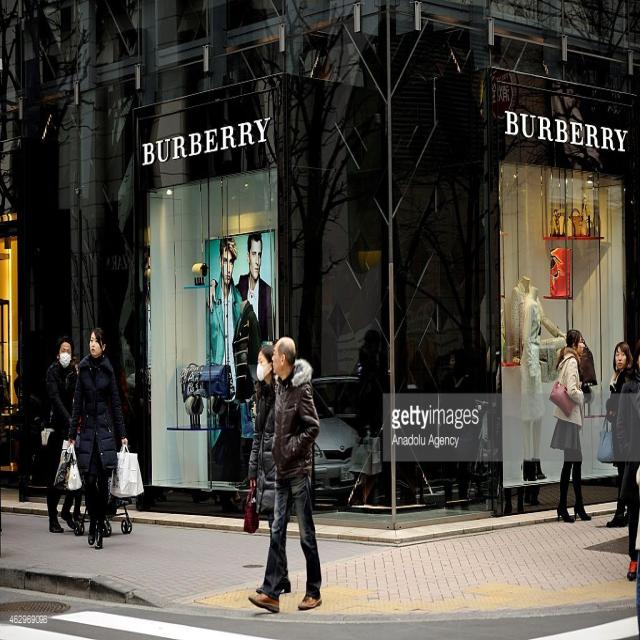body: (340, 279, 640, 640), (0, 229, 293, 521), (244, 334, 324, 616), (51, 325, 145, 551), (248, 344, 292, 596), (548, 327, 592, 524), (38, 332, 80, 536), (596, 339, 634, 532), (614, 345, 640, 584)
